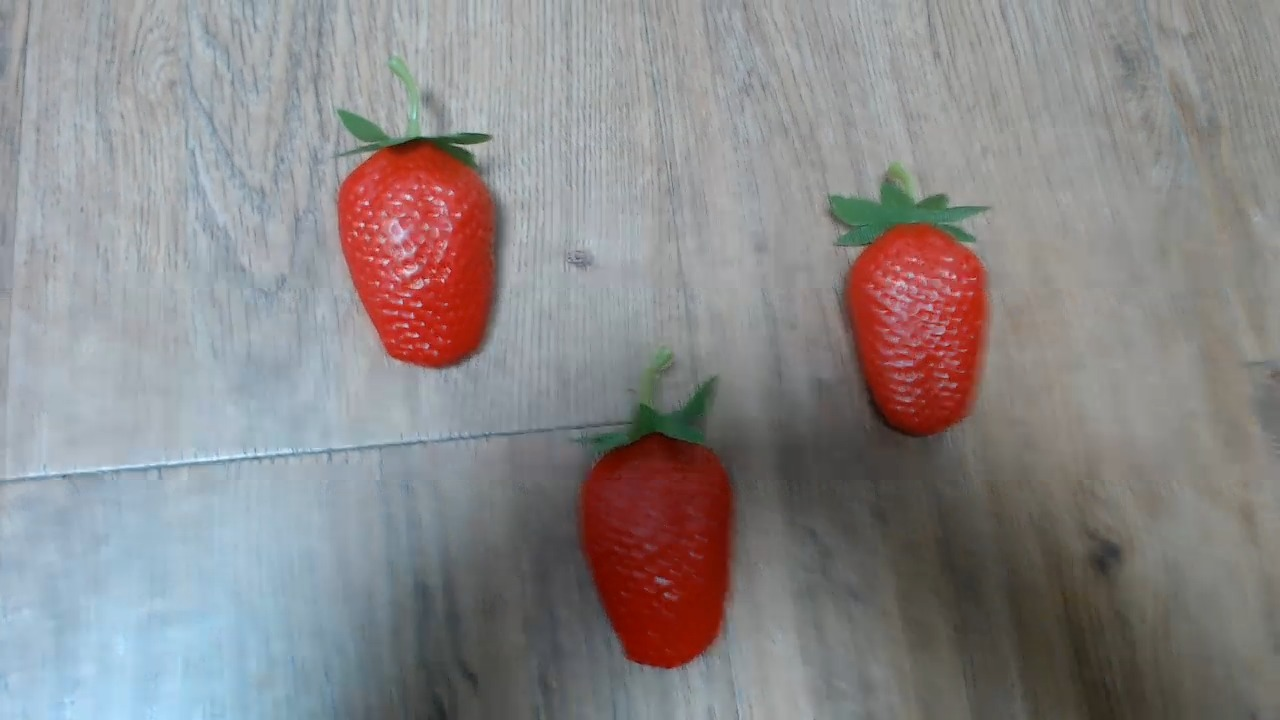strawberry: (561, 411, 751, 678), (326, 127, 514, 370), (831, 186, 999, 440)
